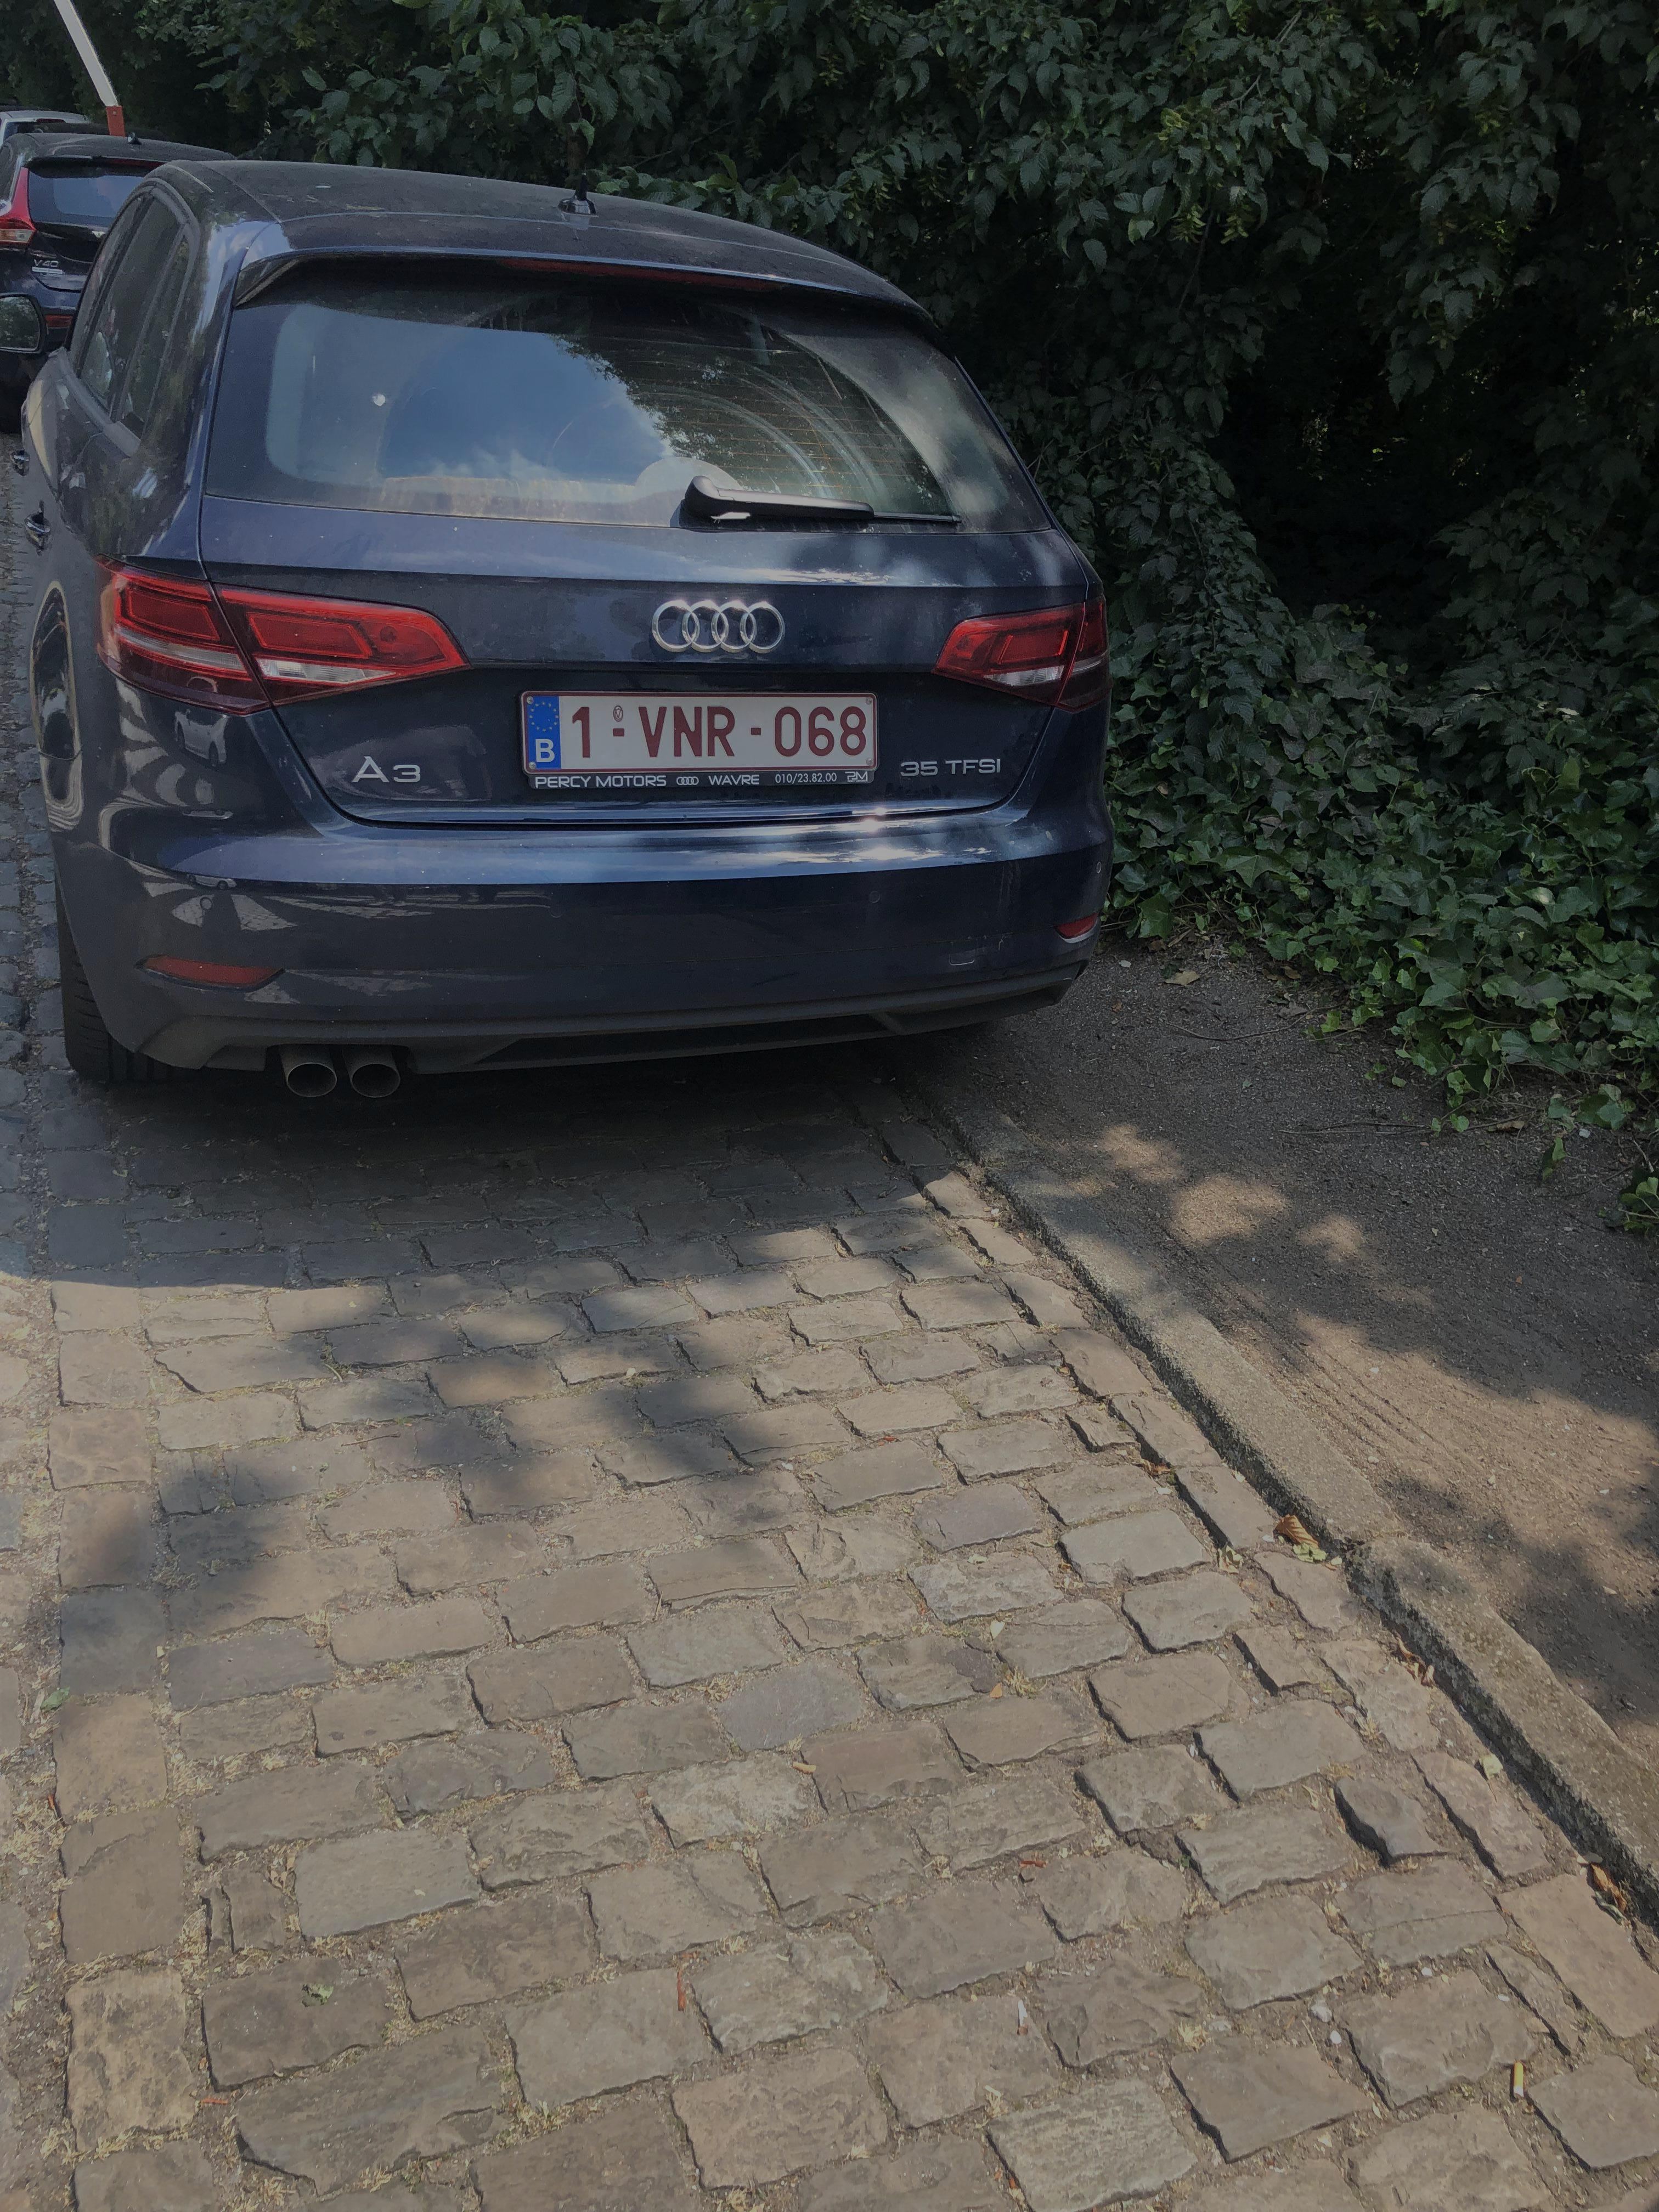plate: (478, 682, 910, 778)
